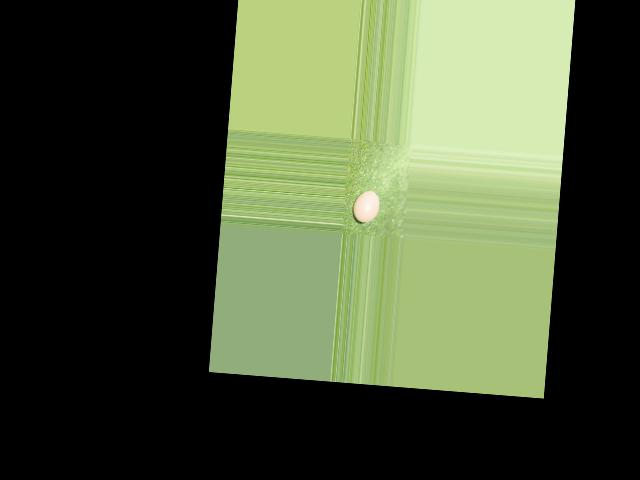egg: (351, 188, 380, 223)
